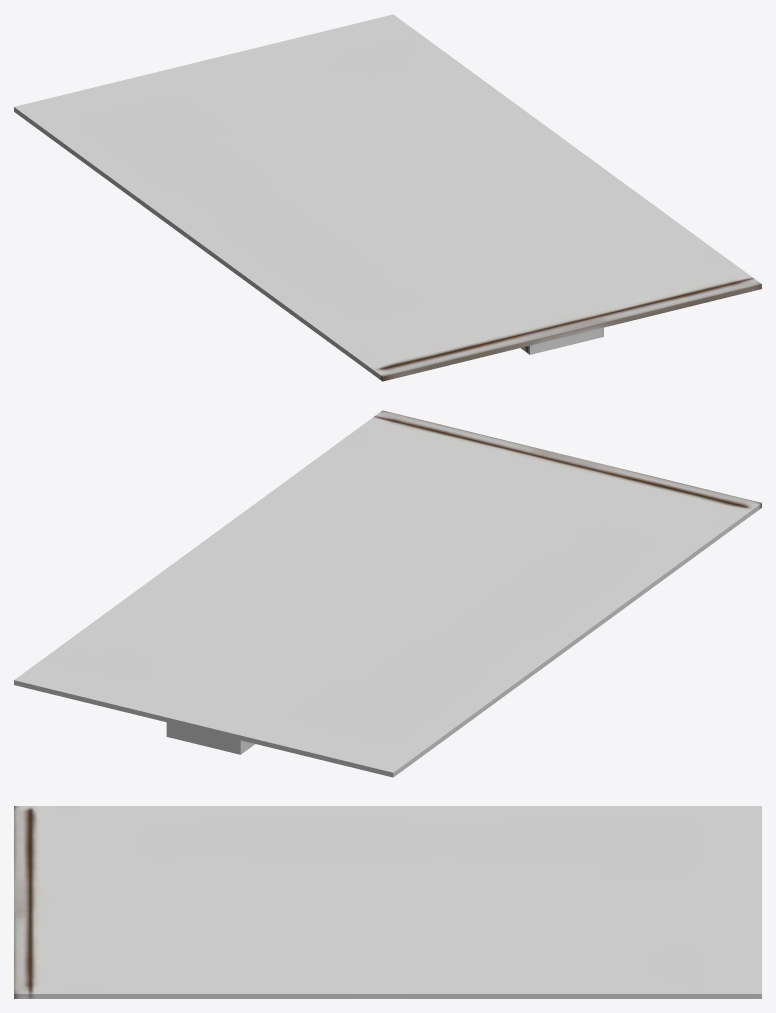
The model's file is link_7__drawer_bottom-103.glb.
3 renders of one model, top to bottom at view 1: azimuth 30°, elevation 25°; view 2: azimuth 150°, elevation 25°; view 3: azimuth 270°, elevation 25°, orthographic.
Parts seen in each view (by area): view 1: geometry_0; view 2: geometry_0; view 3: geometry_0.
Boxes of the visible parts, x1=… form: geometry_0: x1=14, y1=14, x2=761, y2=381; geometry_0: x1=14, y1=410, x2=761, y2=777; geometry_0: x1=14, y1=806, x2=761, y2=998.
Bounding box in the file's own units: 0.2153 × 0.0105 × 0.3623.
1 material, 1 textured.
